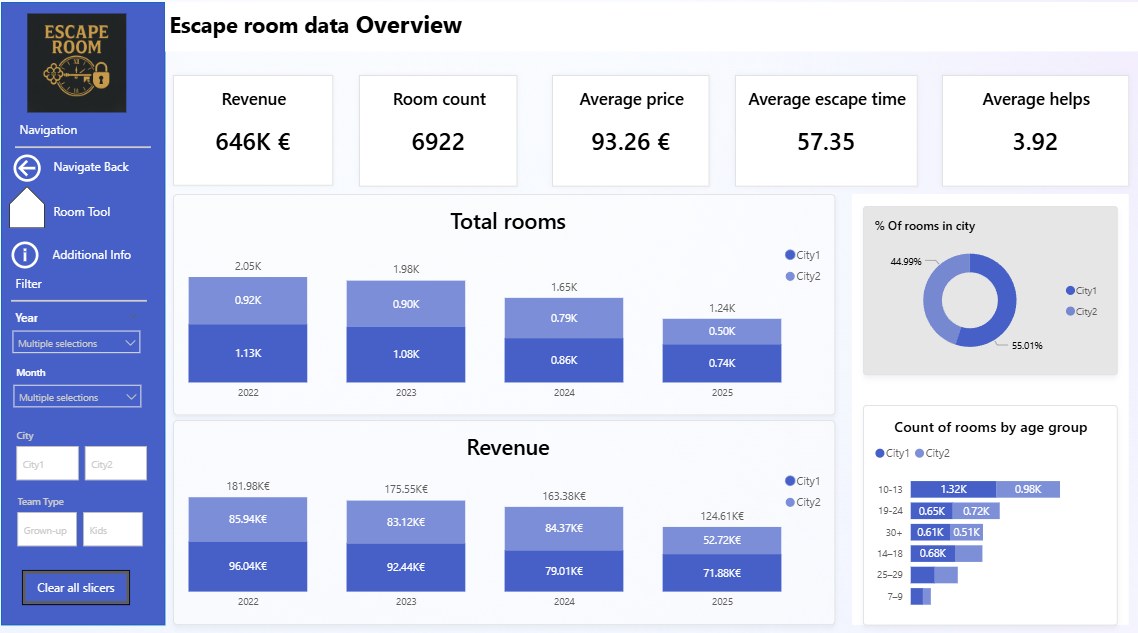

The page's visual inventory and layout, read from the dashboard file:
{"tool":"powerbi","page":{"name":"Main Page","canvas":[1280,720],"ordinal":0},"visuals":[{"type":"shape","box":[5,8.8,182.5,692.5],"z":0},{"type":"card","title":"Revenue","fields":{"Values":["Sum(full_data.Revenue)"]},"box":[196.2,90,177.5,122.5],"z":1000},{"type":"textbox","box":[187.5,8.8,1092.5,55],"z":2000},{"type":"columnChart","title":"Total rooms","fields":{"Category":["full_data.Data.Variation.Date Hierarchy.Year","full_data.Data.Variation.Date Hierarchy.Quarter","full_data.Data.Variation.Date Hierarchy.Month","full_data.Data.Variation.Date Hierarchy.Day"],"Series":["full_data.City"],"Y":["full_data.Count_Kambarys"]},"box":[196.2,222.5,736.2,246.2],"z":3000},{"type":"shape","box":[951.2,222.5,307.5,478.8],"z":4000},{"type":"donutChart","title":"% Of rooms in city","fields":{"Y":["full_data.City count"],"Category":["full_data.City"]},"box":[963.8,235,282.5,187.5],"z":5000},{"type":"barChart","title":"Count of rooms by age group","fields":{"Category":["full_data.Age Group"],"Y":["full_data.Count_Kambarys"],"Series":["full_data.City"]},"box":[963.8,456.2,282.5,245],"z":6000},{"type":"shape","box":[21.3,156.8,151.1,27.1],"z":7000},{"type":"shape","box":[16.8,319.2,151.1,44],"z":8000},{"type":"textbox","box":[16.8,307.9,92.5,28.2],"z":9000},{"type":"textbox","box":[21.3,136.5,92.5,29.3],"z":10000},{"type":"slicer","fields":{"Values":["full_data.Data.Variation.Date Hierarchy.Year"]},"box":[13.4,349.6,152.2,56.4],"z":11000},{"type":"slicer","fields":{"Values":["full_data.Data.Variation.Date Hierarchy.Month"]},"box":[14.5,412.8,152.2,56.4],"z":12000},{"type":"advancedSlicerVisual","title":"City","fields":{"Values":["full_data.City"]},"box":[17.9,482.7,156.8,63.2],"z":13000},{"type":"advancedSlicerVisual","title":"Team Type","fields":{"Values":["full_data.TeamType"]},"box":[19,556,150,63.2],"z":14000},{"type":"card","title":"Room count","fields":{"Values":["full_data.Count_Kambarys"]},"box":[403.8,90,176.2,123.8],"z":15000},{"type":"card","title":"Average price","fields":{"Values":["full_data.Average Price"]},"box":[617.5,90,175,123.8],"z":16000},{"type":"card","title":"Average escape time","fields":{"Values":["Avg(full_data.Escape Time)"]},"box":[821.2,90,202.5,123.8],"z":17000},{"type":"card","title":"Average helps","fields":{"Values":["Avg(full_data.Helps)"]},"box":[1051.2,90,207.5,123.8],"z":18000},{"type":"actionButton","box":[13.9,172.8,46.6,40.3],"z":19000},{"type":"actionButton","box":[12.6,270,45.6,40],"z":20000},{"type":"textbox","box":[58.7,178.2,120.9,28.7],"z":21000},{"type":"textbox","box":[58.7,227.5,120.9,28.7],"z":22000},{"type":"textbox","box":[58.2,275.6,121.1,27.8],"z":23000},{"type":"actionButton","box":[29.1,640.3,120,38.5],"z":24000},{"type":"pageNavigator","box":[14.9,213.3,40,47.8],"z":26000},{"type":"image","box":[27.5,16.2,123.8,120],"z":27000},{"type":"columnChart","title":"Revenue","fields":{"Category":["full_data.Data.Variation.Date Hierarchy.Year","full_data.Data.Variation.Date Hierarchy.Quarter","full_data.Data.Variation.Date Hierarchy.Month","full_data.Data.Variation.Date Hierarchy.Day"],"Series":["full_data.City"],"Y":["Sum(full_data.Revenue)"]},"box":[196.2,473.8,736.2,227.5],"z":28000}]}

Visuals, with their boxes on the page's 1280x720 design canvas (x1, y1, x2, y2). These are canvas units, not pixel positions in the 1138x633 screenshot, which may show the page scaled, cropped or inside an application window:
shape: Rect(5, 9, 188, 701)
"Revenue" card: Rect(196, 90, 374, 212)
textbox: Rect(188, 9, 1280, 64)
"Total rooms" columnChart: Rect(196, 222, 932, 469)
shape: Rect(951, 222, 1259, 701)
"% Of rooms in city" donutChart: Rect(964, 235, 1246, 422)
"Count of rooms by age group" barChart: Rect(964, 456, 1246, 701)
shape: Rect(21, 157, 172, 184)
shape: Rect(17, 319, 168, 363)
textbox: Rect(17, 308, 109, 336)
textbox: Rect(21, 136, 114, 166)
slicer - full_data.Data.Variation.Date Hierarchy.Year: Rect(13, 350, 166, 406)
slicer - full_data.Data.Variation.Date Hierarchy.Month: Rect(14, 413, 167, 469)
"City" advancedSlicerVisual: Rect(18, 483, 175, 546)
"Team Type" advancedSlicerVisual: Rect(19, 556, 169, 619)
"Room count" card: Rect(404, 90, 580, 214)
"Average price" card: Rect(618, 90, 792, 214)
"Average escape time" card: Rect(821, 90, 1024, 214)
"Average helps" card: Rect(1051, 90, 1259, 214)
actionButton: Rect(14, 173, 60, 213)
actionButton: Rect(13, 270, 58, 310)
textbox: Rect(59, 178, 180, 207)
textbox: Rect(59, 228, 180, 256)
textbox: Rect(58, 276, 179, 303)
actionButton: Rect(29, 640, 149, 679)
pageNavigator: Rect(15, 213, 55, 261)
image: Rect(28, 16, 151, 136)
"Revenue" columnChart: Rect(196, 474, 932, 701)
